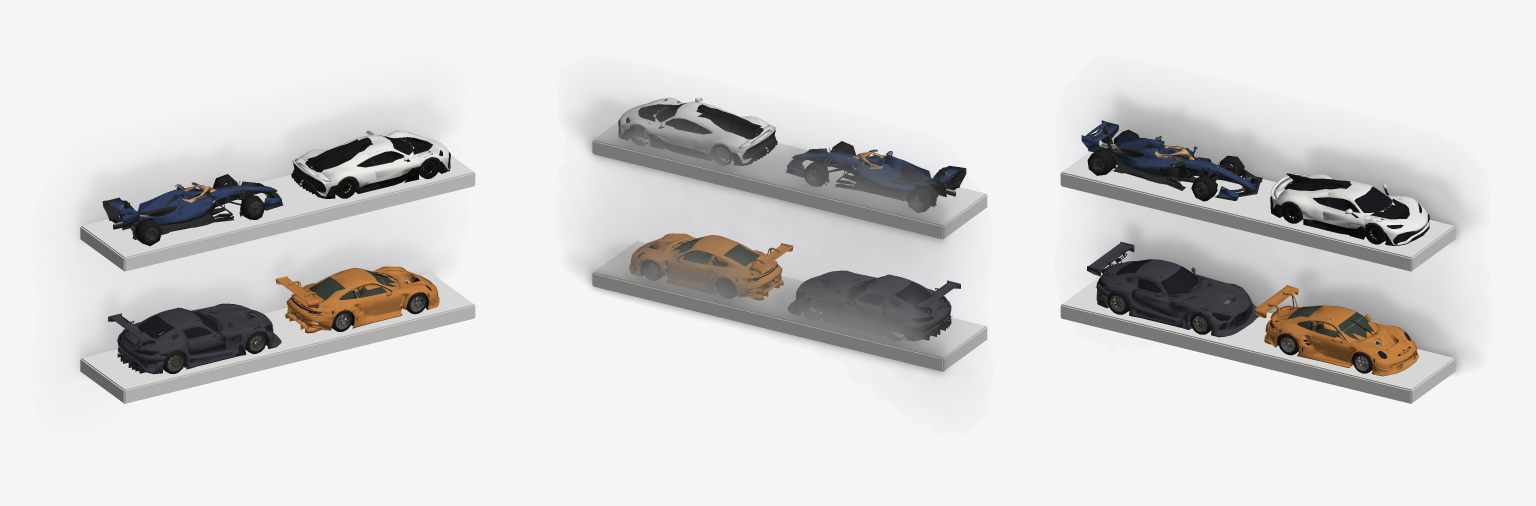
Rendered from cars.glb.
3 views of the same model, side by side, from view 1: azimuth 30°, elevation 25°; view 2: azimuth 150°, elevation 25°; view 3: azimuth 330°, elevation 25° (orthographic).
Parts seen in each view (by area): view 1: cars_static, cars_shadow; view 2: cars_shadow, cars_static; view 3: cars_static, cars_shadow.
Part boxes in pixels (x1,y1,x2,y2): cars_static: (80,130,475,403); cars_shadow: (64,93,452,378); cars_shadow: (571,93,959,378); cars_static: (592,97,987,371); cars_static: (1060,120,1455,403); cars_shadow: (1091,92,1476,374).
Bounding box in the file's own units: 0.88 × 0.626 × 0.14.
2 materials, 2 textured.
